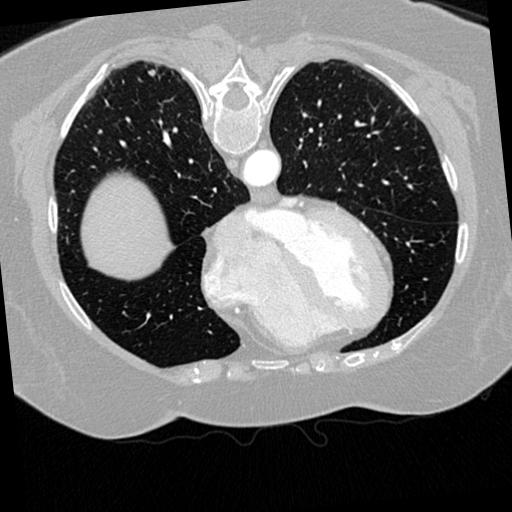nodule: (145, 68, 157, 80)
